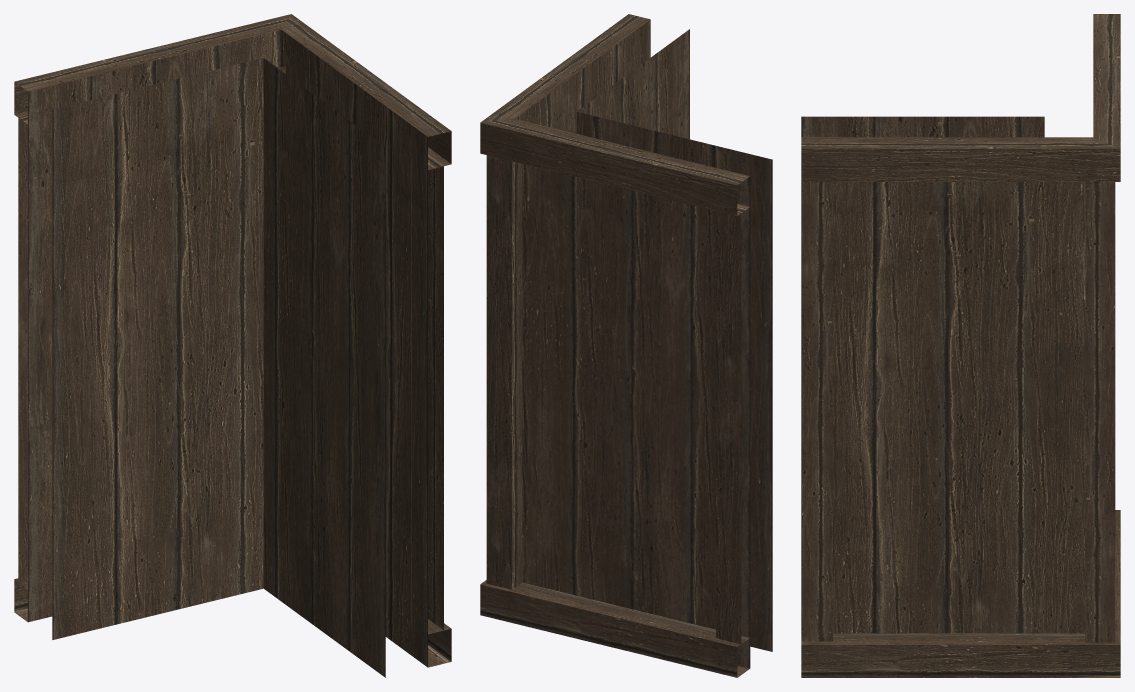
The model's file is ARC1010293.fbx.
3 renders of one model, left to right at view 1: azimuth 30°, elevation 25°; view 2: azimuth 150°, elevation 25°; view 3: azimuth 270°, elevation 25°, orthographic. The views are drawn at different scales.
Visible parts, largest first — view 1: smARC1010293; view 2: smARC1010293; view 3: smARC1010293.
Boxes of the visible parts, <box> form: smARC1010293: <box>14,14,451,677</box>; smARC1010293: <box>480,14,772,677</box>; smARC1010293: <box>801,14,1120,677</box>.
Bounding box in the file's own units: 147 × 268 × 147.
Materials: 1 (1 with a texture image).
